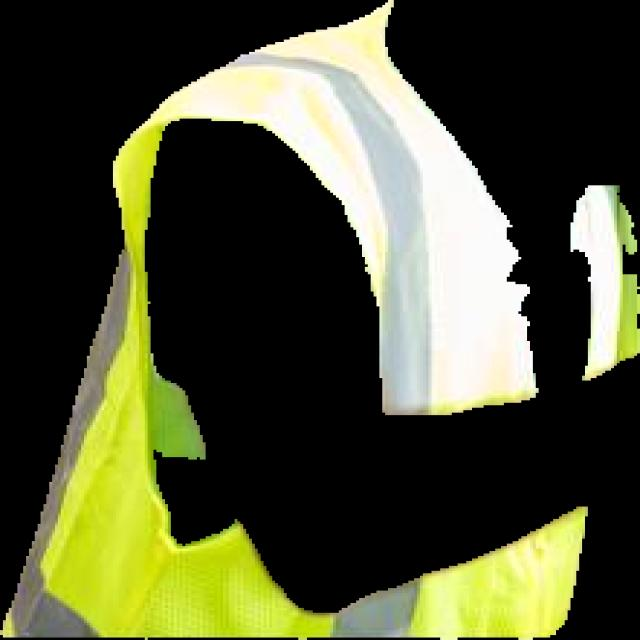Colete: (0, 0, 587, 639)
